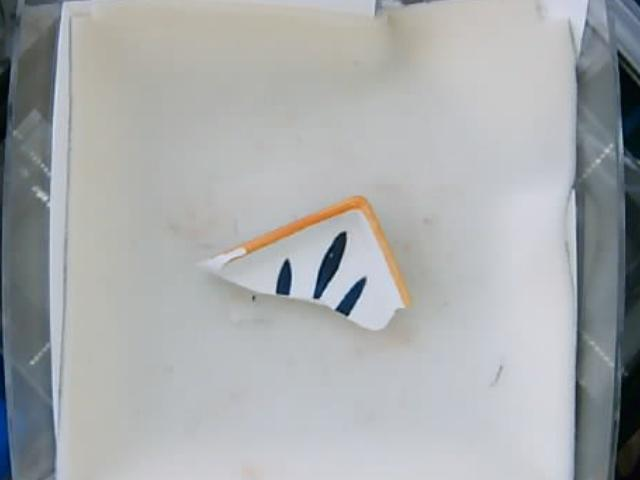China: (198, 195, 411, 330)
